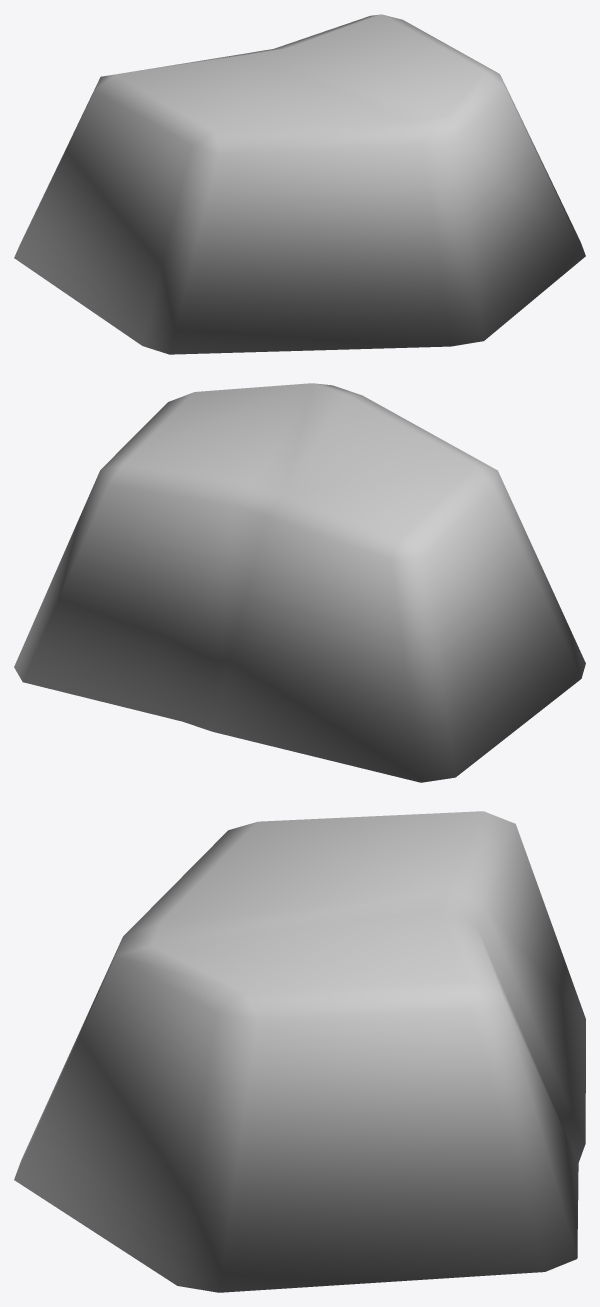
File: Rock_Single_01.fbx
The picture shows the model from 3 angles, top to bottom: view 1: azimuth 30°, elevation 25°; view 2: azimuth 150°, elevation 25°; view 3: azimuth 270°, elevation 25°; orthographic projection. The views are drawn at different scales.
Parts seen in each view (by area): view 1: Rock_Single_01; view 2: Rock_Single_01; view 3: Rock_Single_01.
Boxes of the visible parts, x1=… form: Rock_Single_01: x1=14, y1=14, x2=585, y2=354; Rock_Single_01: x1=14, y1=383, x2=585, y2=782; Rock_Single_01: x1=14, y1=811, x2=585, y2=1292.
Size of the model in its own units: 87.82 by 34.99 by 74.23.
